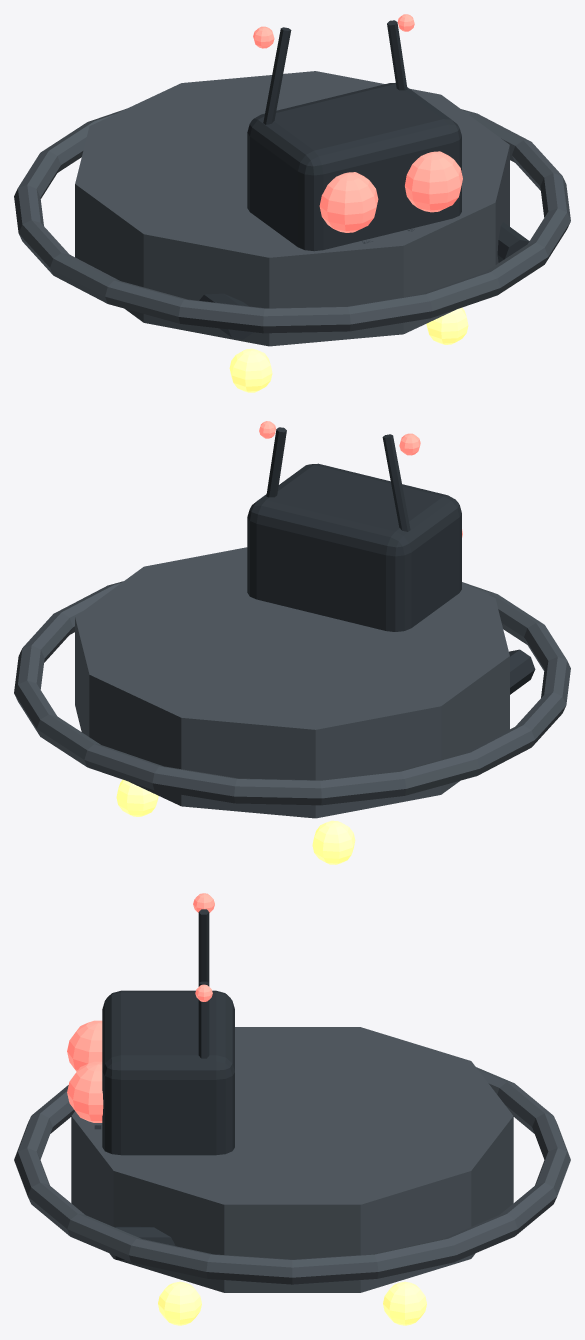
File: enemy_drone.glb
3 renders of one model, top to bottom at view 1: azimuth 30°, elevation 25°; view 2: azimuth 150°, elevation 25°; view 3: azimuth 270°, elevation 25°, orthographic.
Parts seen in each view (by area): view 1: enemy_drone; view 2: enemy_drone; view 3: enemy_drone.
Boxes of the visible parts, bbox=[...] form: enemy_drone: bbox=[14, 14, 570, 392]; enemy_drone: bbox=[14, 421, 570, 864]; enemy_drone: bbox=[14, 893, 570, 1325].
Size of the model in its own units: 1.26 by 0.865 by 1.26.
